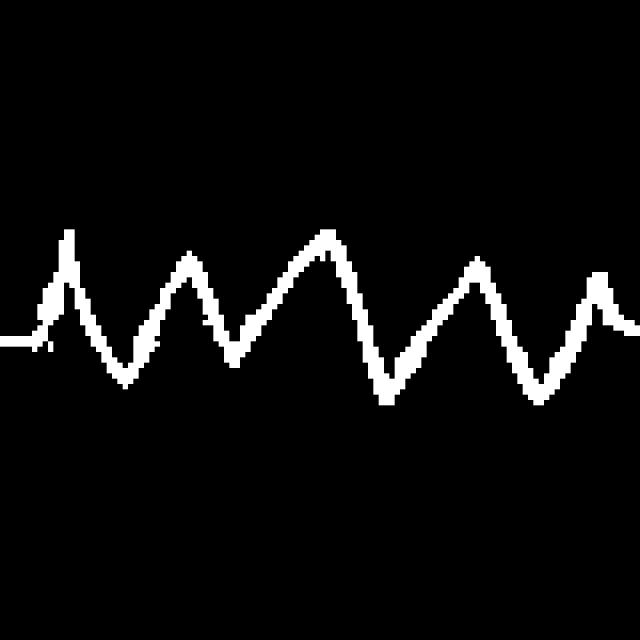resistor: (22, 203, 619, 420)
